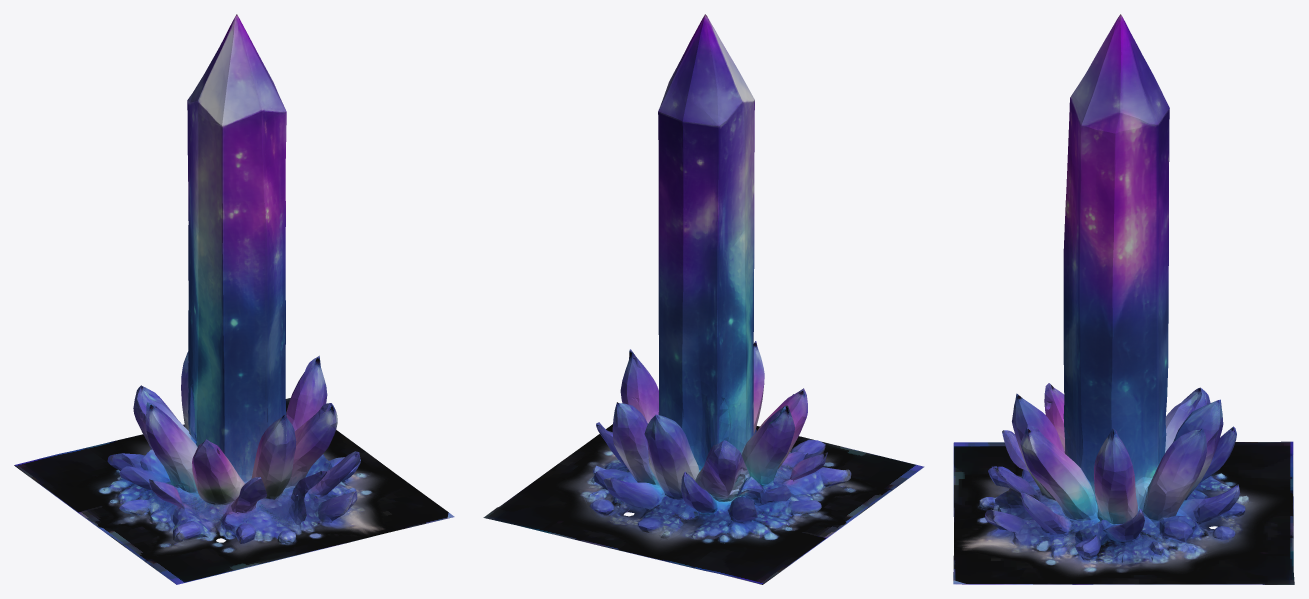
Rendered from env-obelisk.glb.
3 renders of one model, left to right at view 1: azimuth 30°, elevation 25°; view 2: azimuth 150°, elevation 25°; view 3: azimuth 270°, elevation 25°, orthographic. The views are drawn at different scales.
Parts seen in each view (by area): view 1: world; view 2: world; view 3: world.
Boxes of the visible parts, x1,y1,x2,y2 form: world: (14, 14, 454, 584); world: (483, 14, 924, 584); world: (953, 14, 1294, 584).
Bounding box in the file's own units: 0.6114 × 0.9993 × 0.6183.
1 material, 1 textured.
